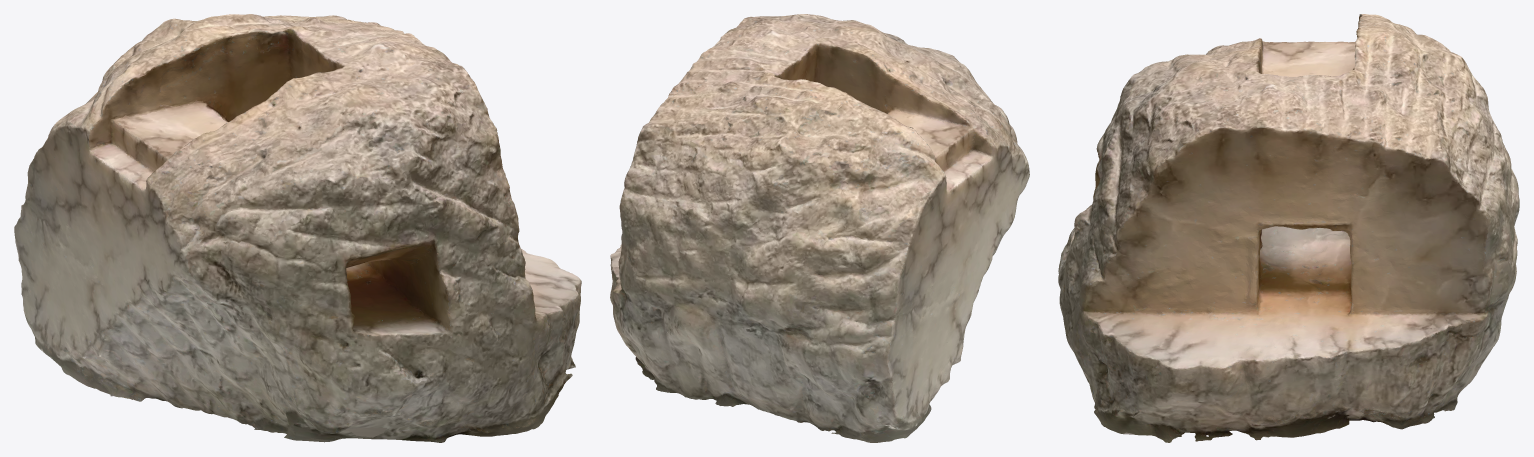
Rendered from preview.glb.
The picture shows the model from 3 angles, left to right: view 1: azimuth 30°, elevation 25°; view 2: azimuth 150°, elevation 25°; view 3: azimuth 270°, elevation 25°; orthographic projection. The views are drawn at different scales.
Parts seen in each view (by area): view 1: Object_5; view 2: Object_5; view 3: Object_5.
Boxes of the visible parts, x1,y1,x2,y2 form: Object_5: [14, 14, 581, 442]; Object_5: [610, 14, 1029, 442]; Object_5: [1058, 14, 1519, 442].
Size of the model in its own units: 1.16 by 0.9321 by 1.25.
Materials: 2 (1 with a texture image).
